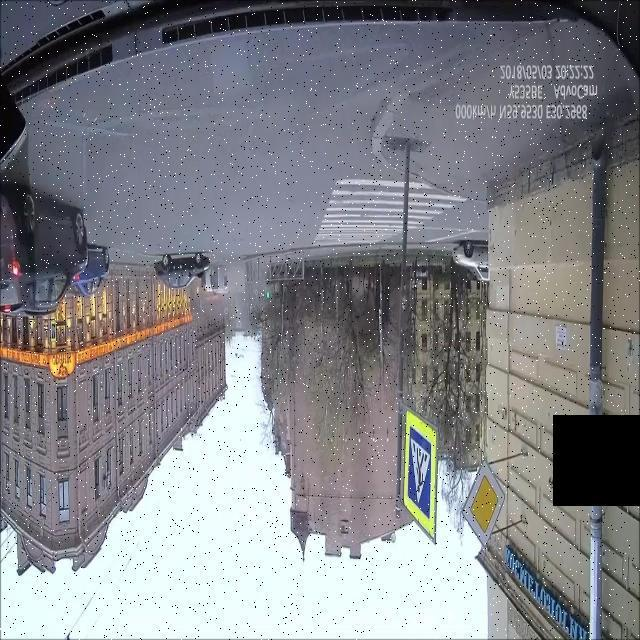vehicle: (200, 264, 237, 296)
